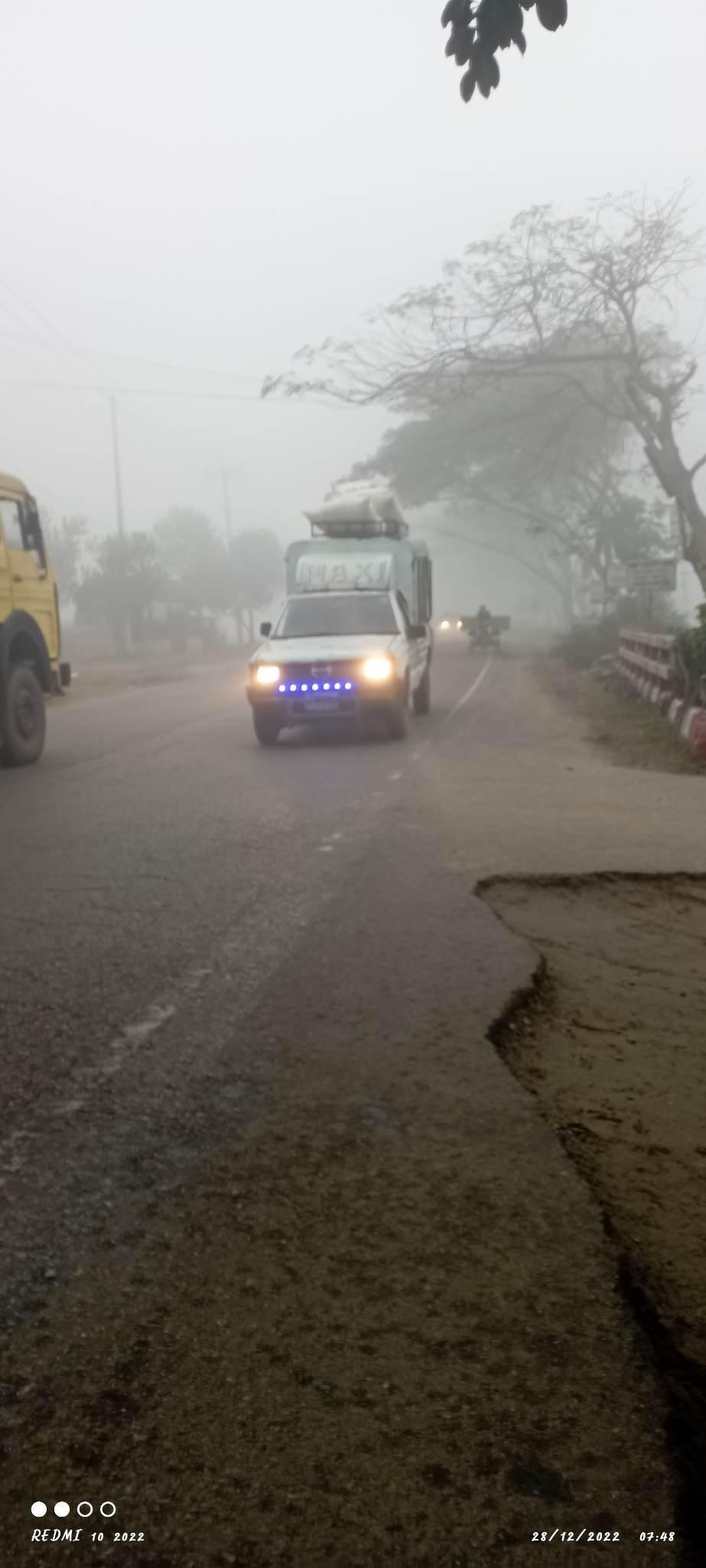Car: (236, 459, 458, 760)
Truck: (3, 439, 91, 805)
